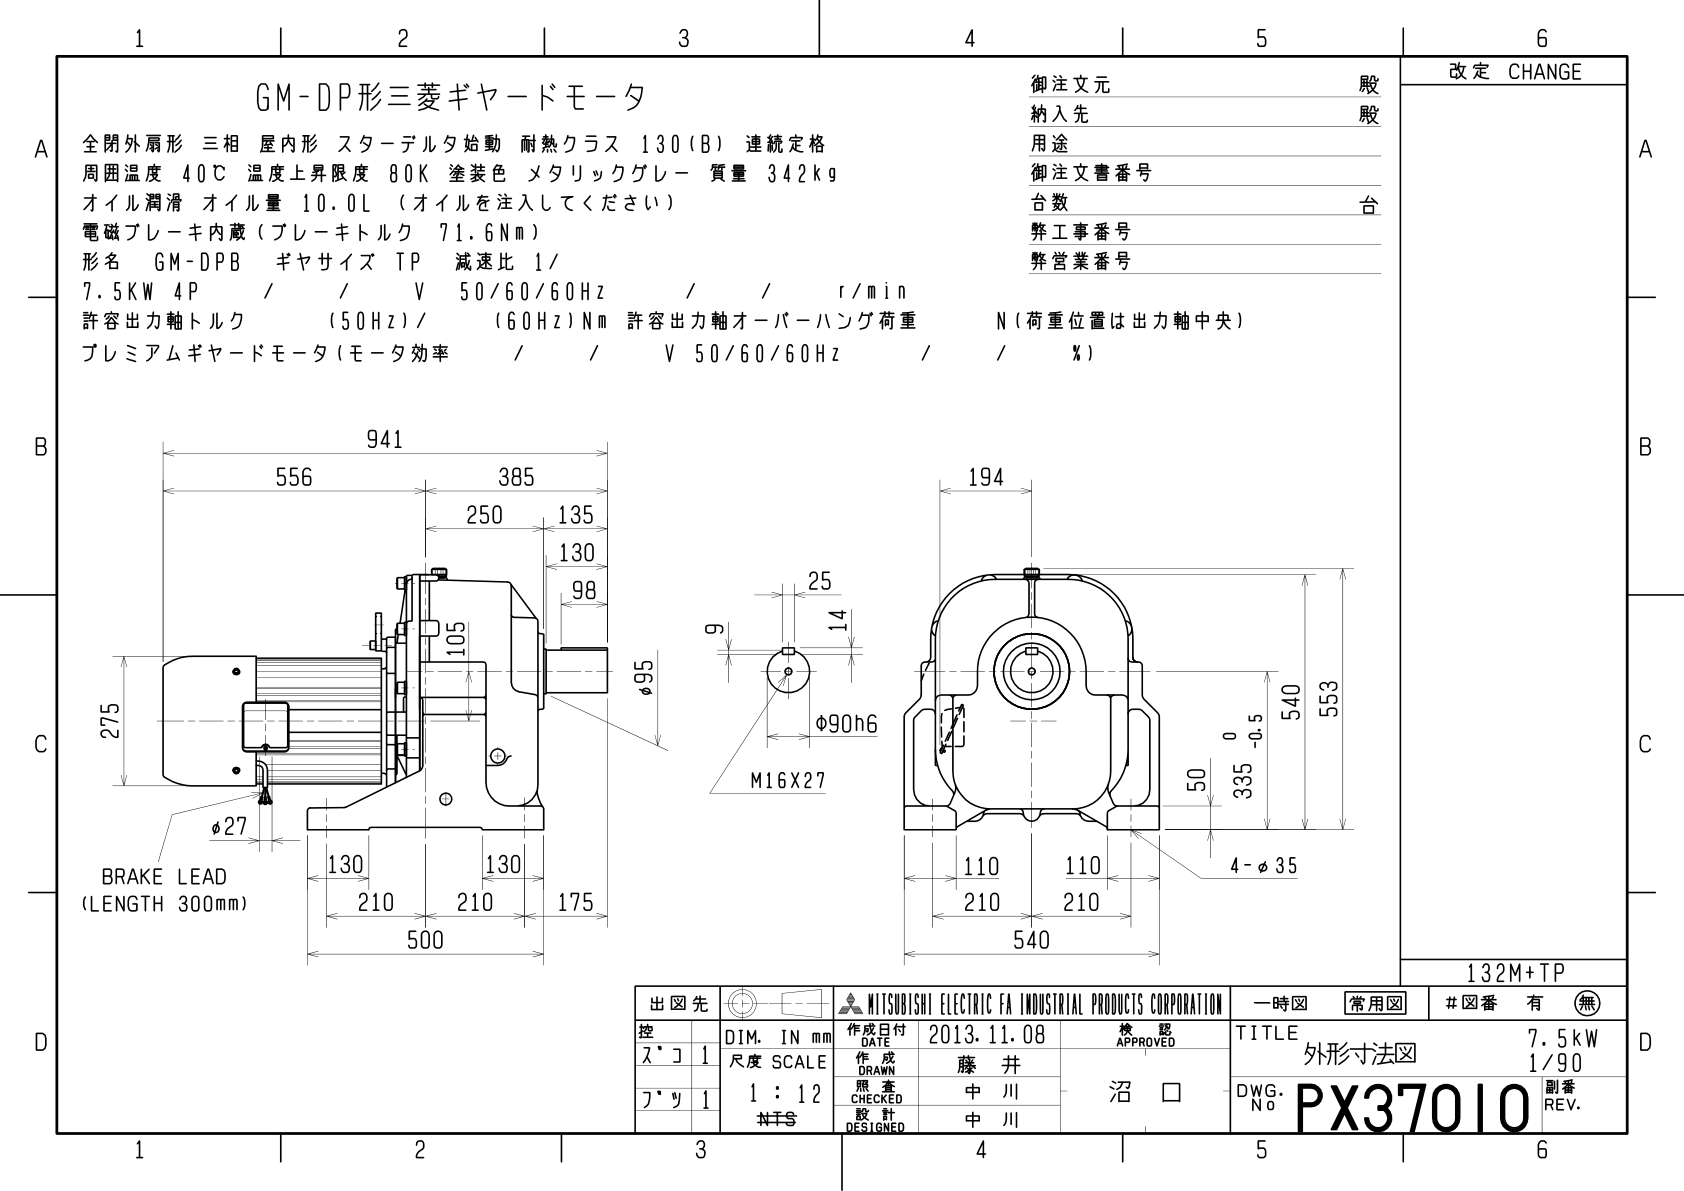GM_DP_屋内_三相_脚: (67, 391, 1371, 965)
